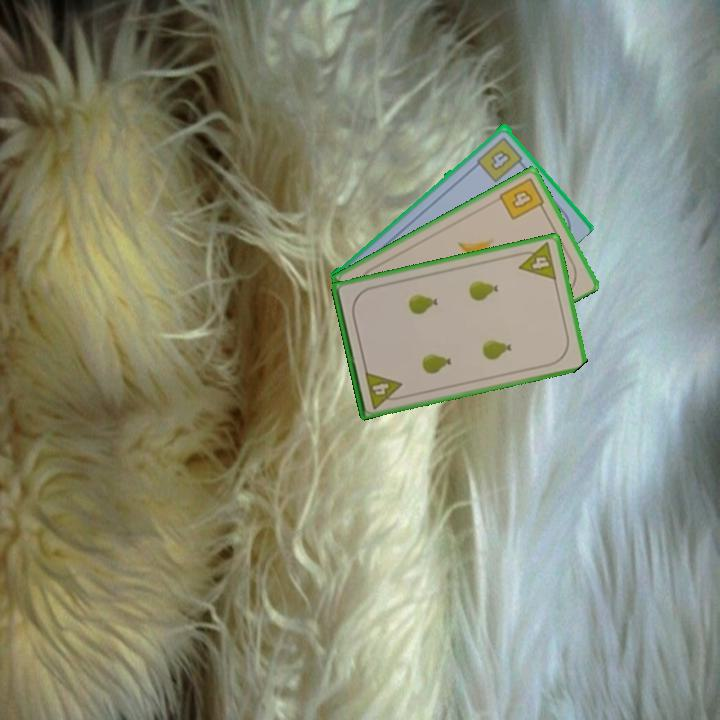4b: (473, 133, 527, 185), (495, 174, 549, 223)
4p: (513, 239, 559, 283), (361, 368, 407, 411)
